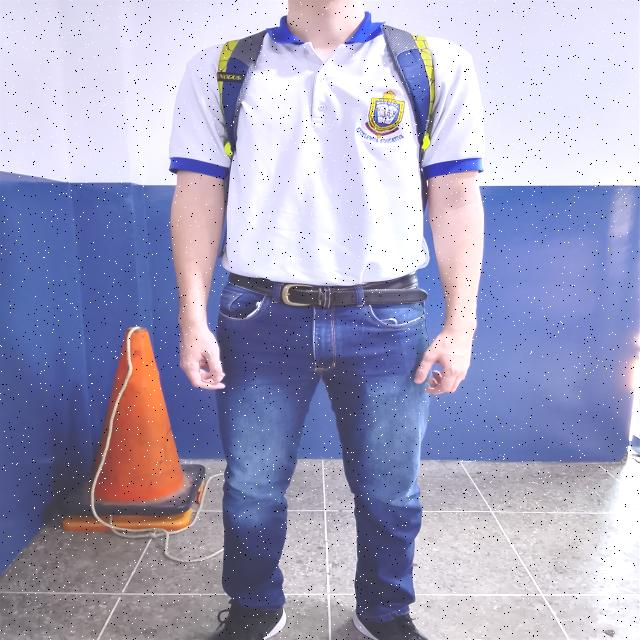pantalon_oscuro: (216, 284, 431, 620)
uniforme_superior: (168, 11, 484, 286)
